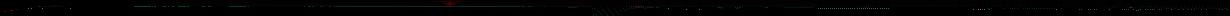Blue cone: (30, 7, 36, 8), (15, 9, 19, 10)
Yellow cone: (442, 1, 458, 6), (858, 6, 874, 8)
